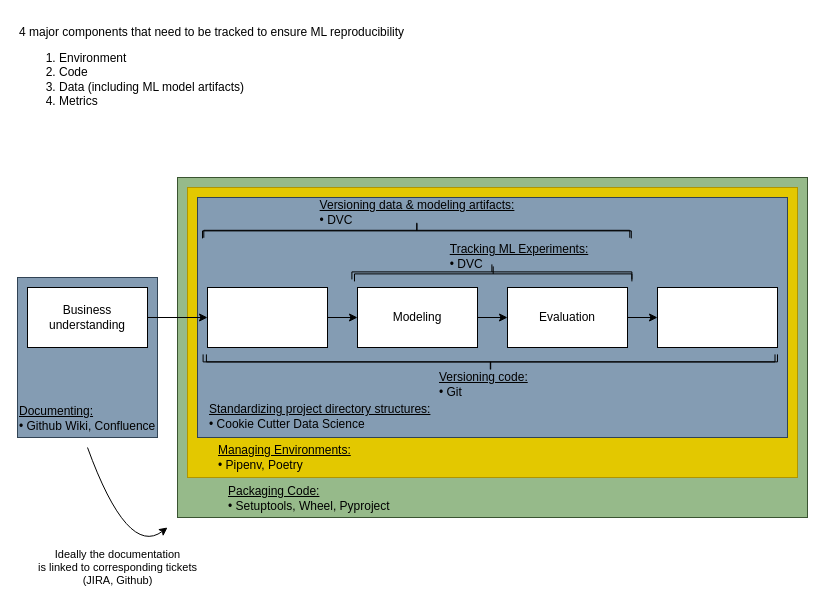
Some shapes in this 825 by 605 pixel diagram are drawn without their labels. Each missing label, with the box of its shape:
Data gathering and exploration: (206, 286, 328, 348)
Deployment: (656, 286, 778, 348)
